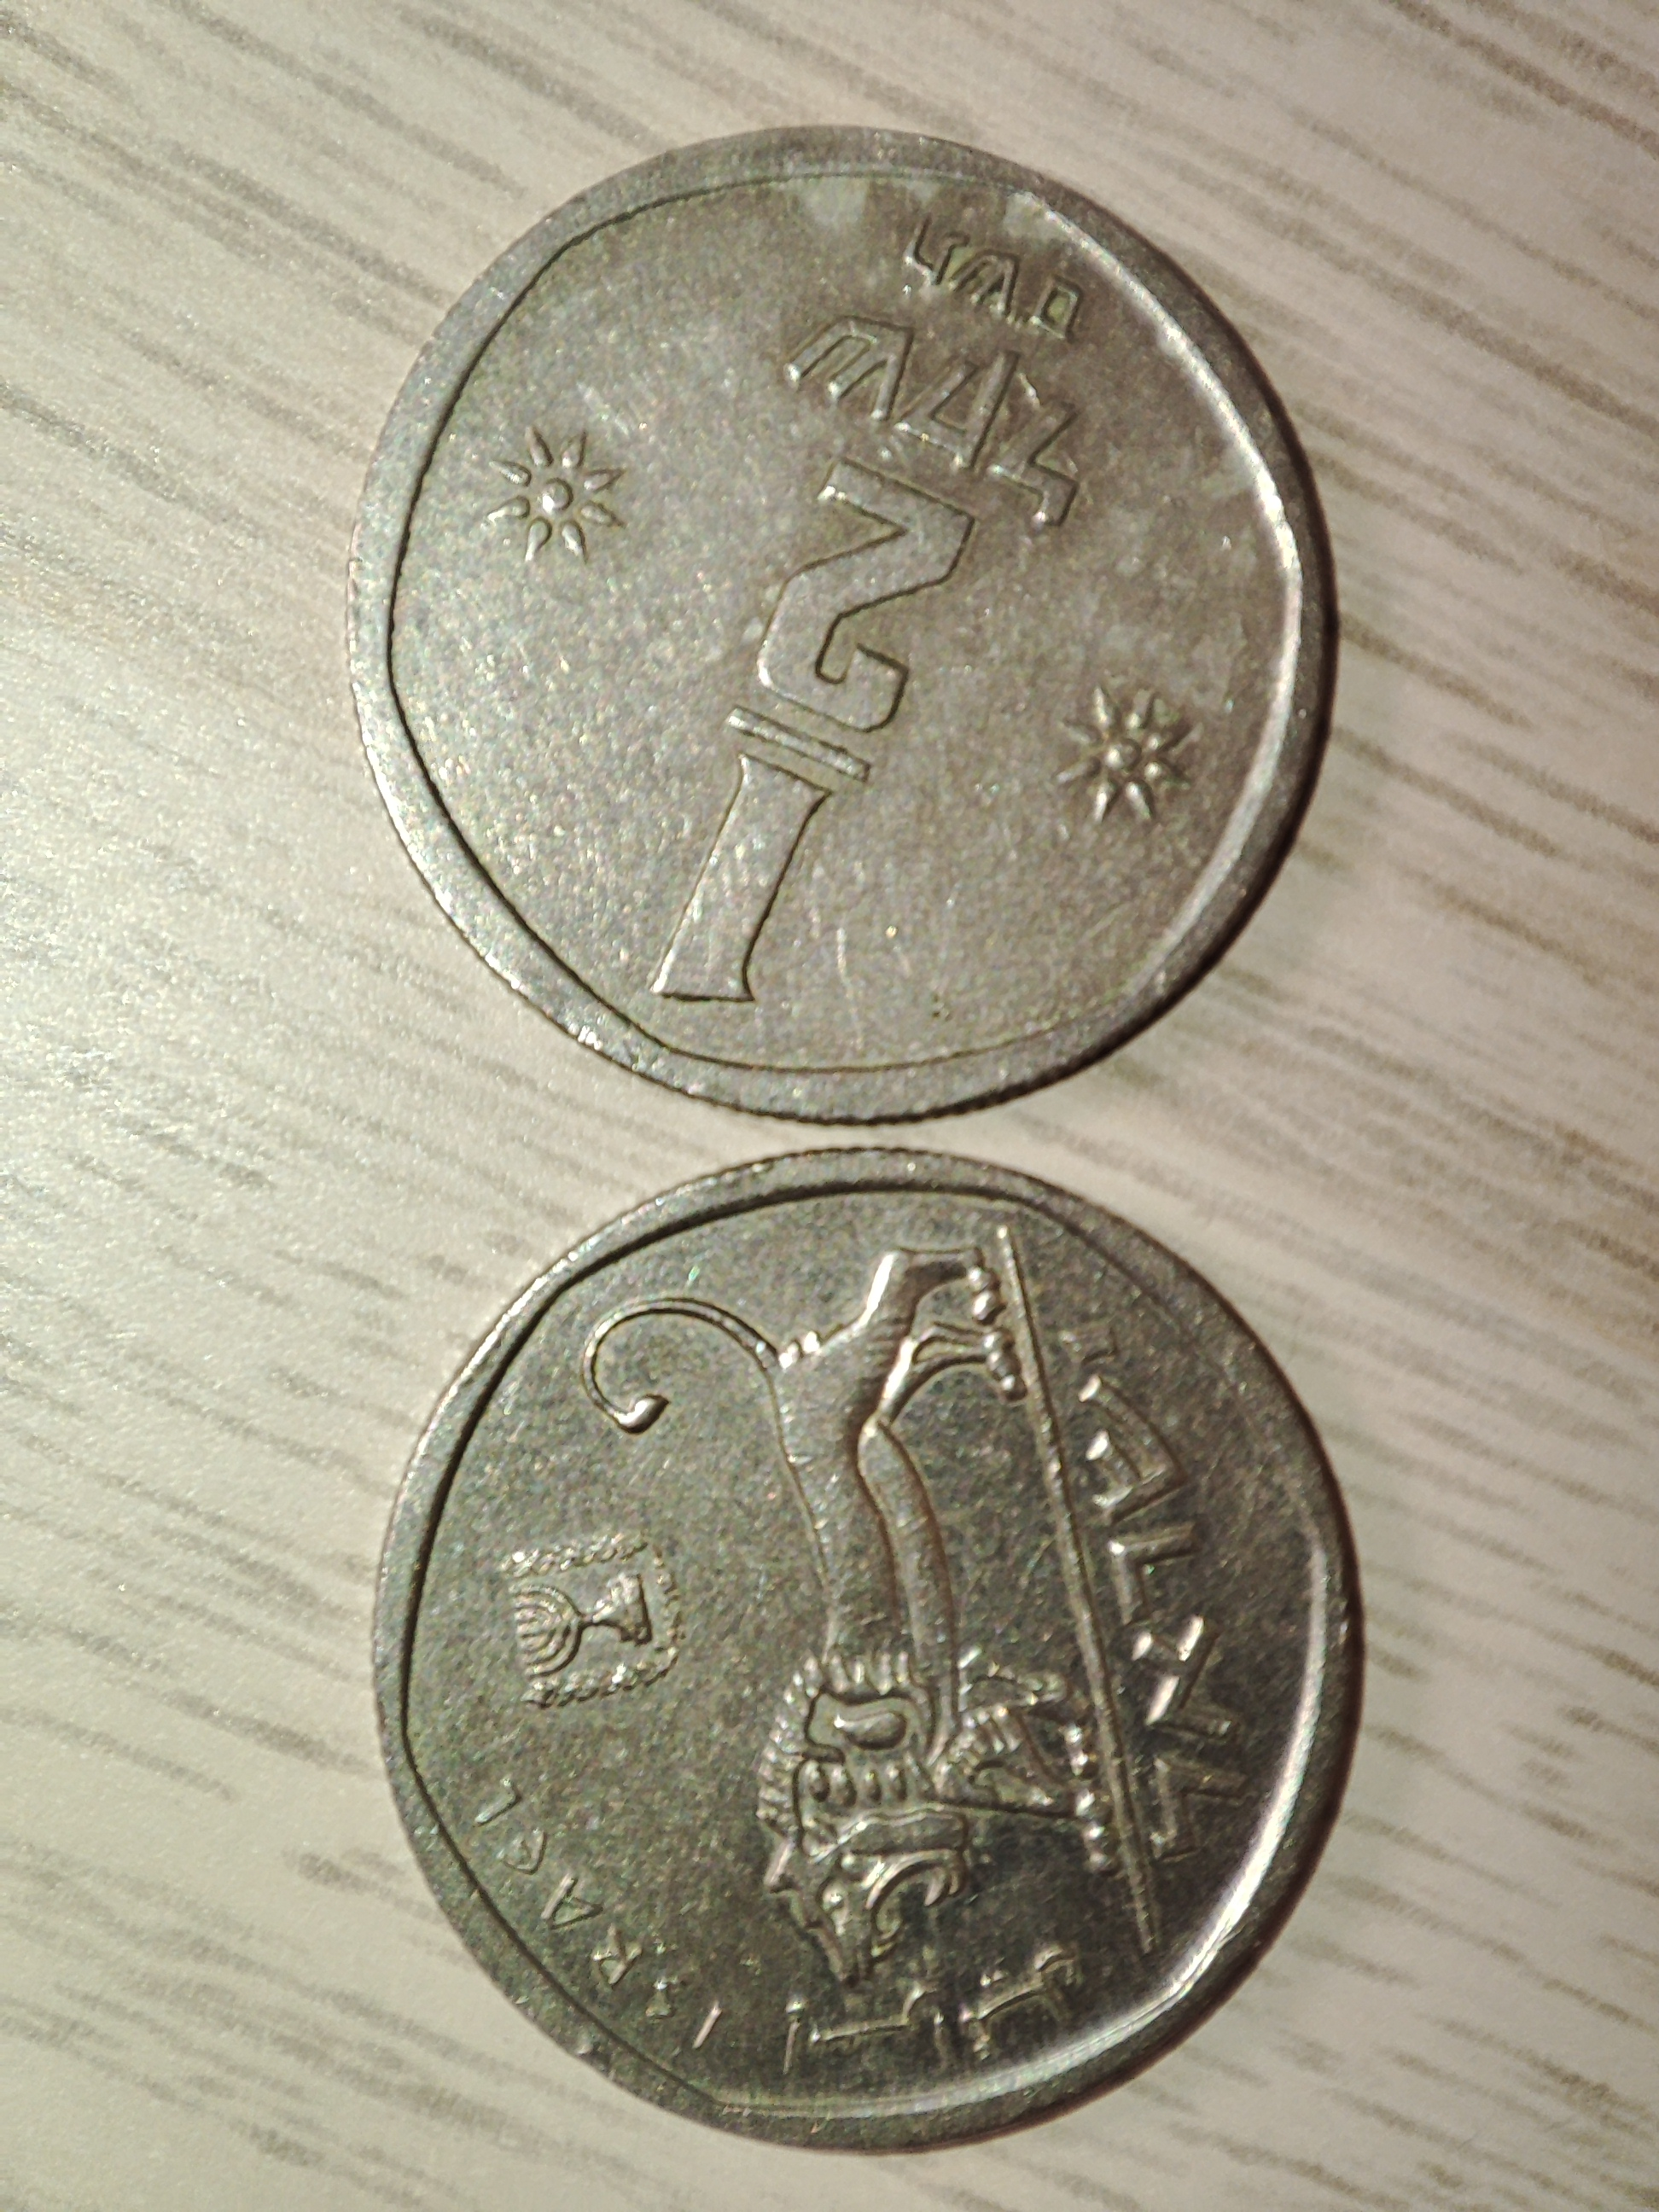1/2 old sheqel: (362, 1141, 1375, 2170), (343, 118, 1356, 1125)
